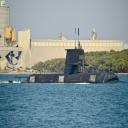submarine: (9, 28, 120, 85)
